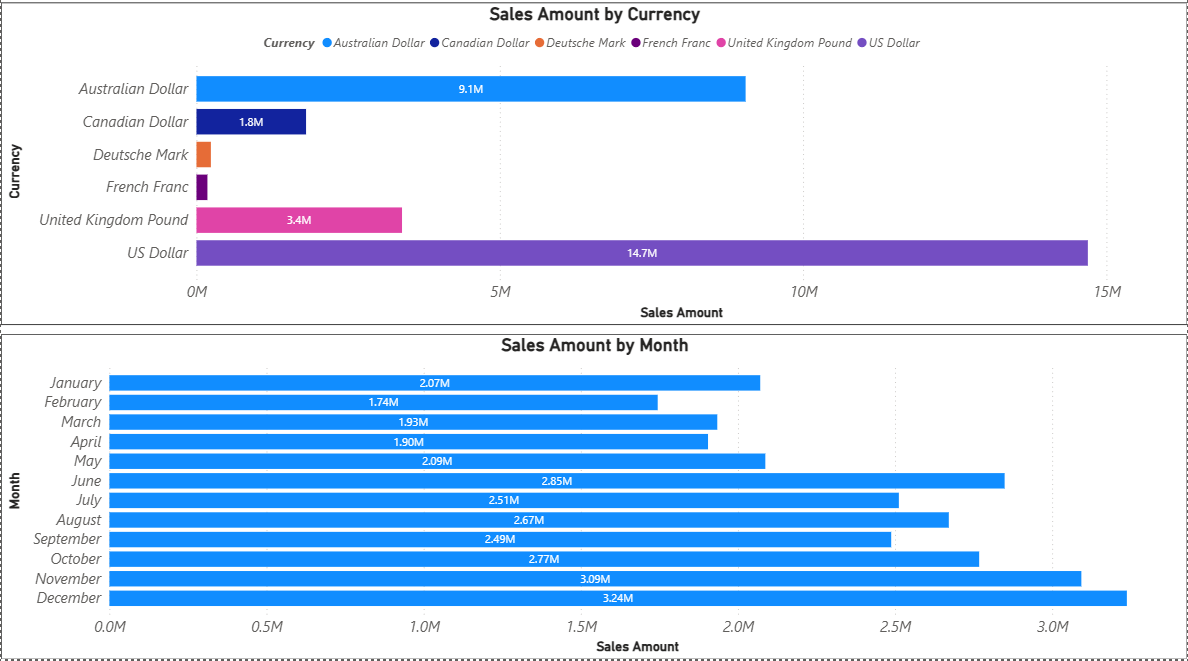

The dashboard page shown, as its layout file describes it:
{"tool":"powerbi","page":{"name":"Sales Overview","canvas":[1280,720],"ordinal":0},"visuals":[{"type":"barChart","title":"Sales Amount by Currency","fields":{"Category":["dim_Currency.CurrencyName"],"Y":["Sum(fact_InternetSales.SalesAmount)"],"Series":["dim_Currency.CurrencyName"]},"box":[0,11.3,1280.8,348.1],"z":0},{"type":"barChart","title":"Sales Amount by Month","fields":{"Category":["dim_Date.Month Name"],"Y":["Sum(fact_InternetSales.SalesAmount)"]},"box":[0,369.2,1280.8,351.4],"z":1000}]}

Visuals, with their boxes in screenshot pixels (x1, y1, x2, y2), scaled from the page's 1280x720 canvas onto the 1188x661 screenshot:
"Sales Amount by Currency" barChart: x1=0 y1=10 x2=1187 y2=330
"Sales Amount by Month" barChart: x1=0 y1=339 x2=1187 y2=660
